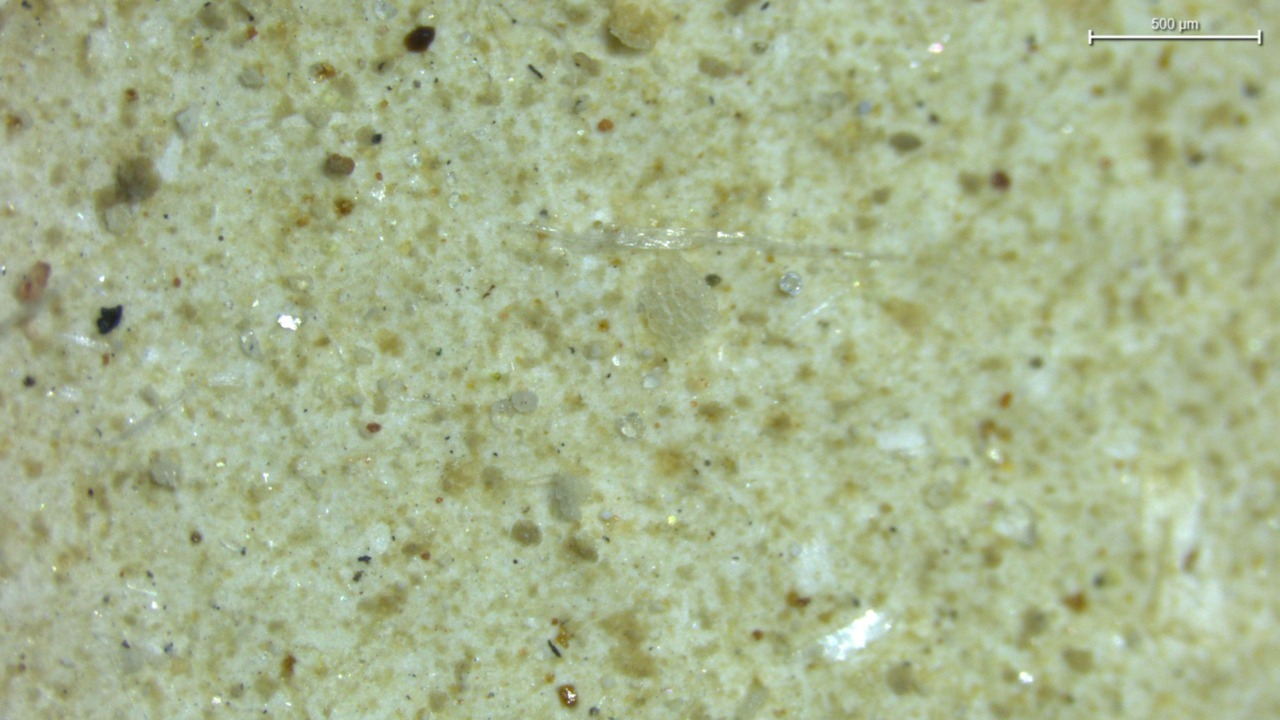microplastic_fragment: (549, 472, 589, 521), (511, 390, 538, 413), (778, 272, 803, 296)
